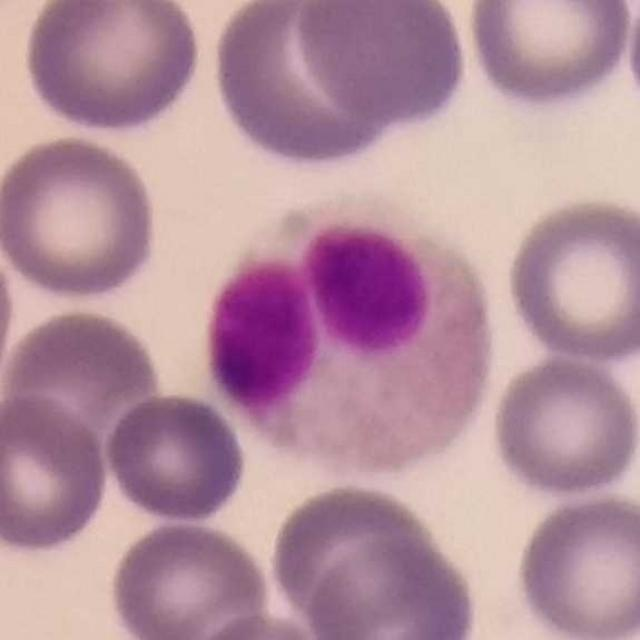Eosinophil: (211, 199, 496, 480)
RBC: (207, 0, 403, 174), (0, 131, 164, 305), (18, 0, 207, 137), (501, 192, 640, 365), (291, 0, 472, 131), (486, 352, 639, 501), (267, 487, 437, 620), (0, 304, 166, 440), (100, 388, 251, 526), (106, 517, 274, 640), (462, 0, 638, 115), (299, 532, 483, 640), (510, 489, 639, 640), (0, 388, 112, 558), (180, 610, 340, 640), (0, 232, 19, 416)
